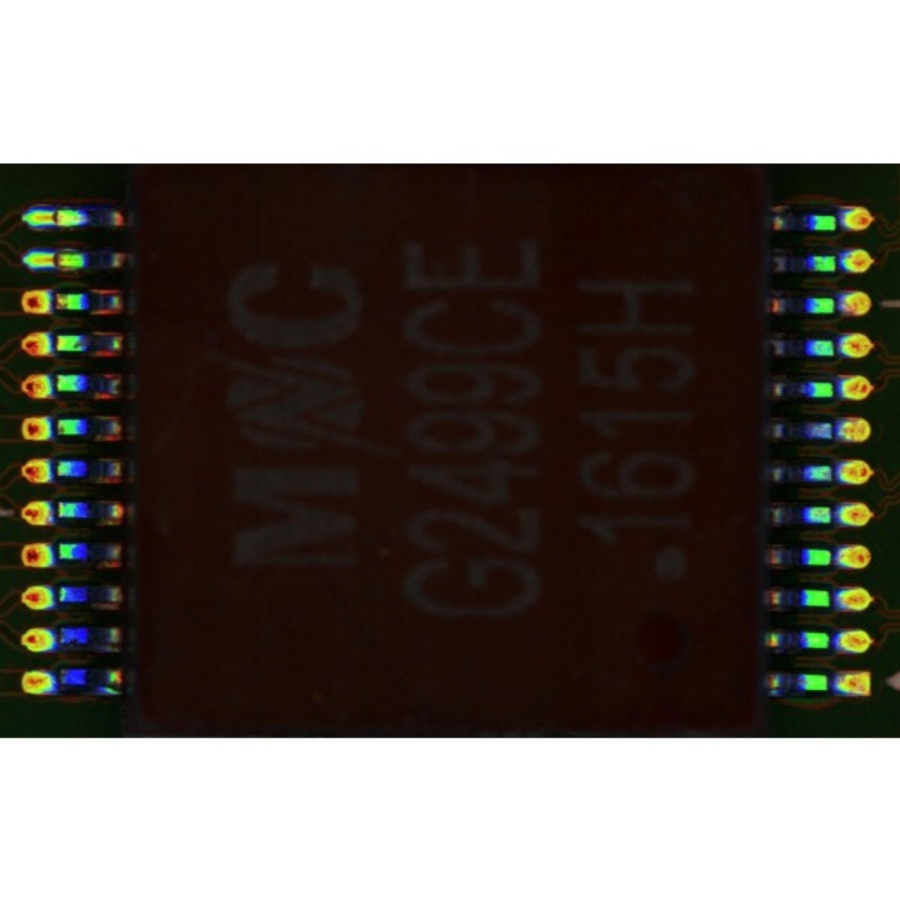Bad_podu: (37, 212, 66, 224), (34, 255, 68, 263)
